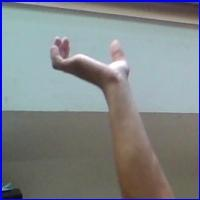B: (46, 31, 138, 88)
